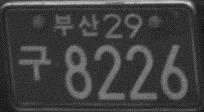2: (125, 42, 157, 102), (93, 42, 125, 100), (102, 11, 122, 39)
6: (159, 42, 189, 99)
8: (62, 43, 92, 100)
9: (123, 11, 143, 39)
구: (17, 43, 52, 82)
부산_O: (52, 12, 99, 37)
